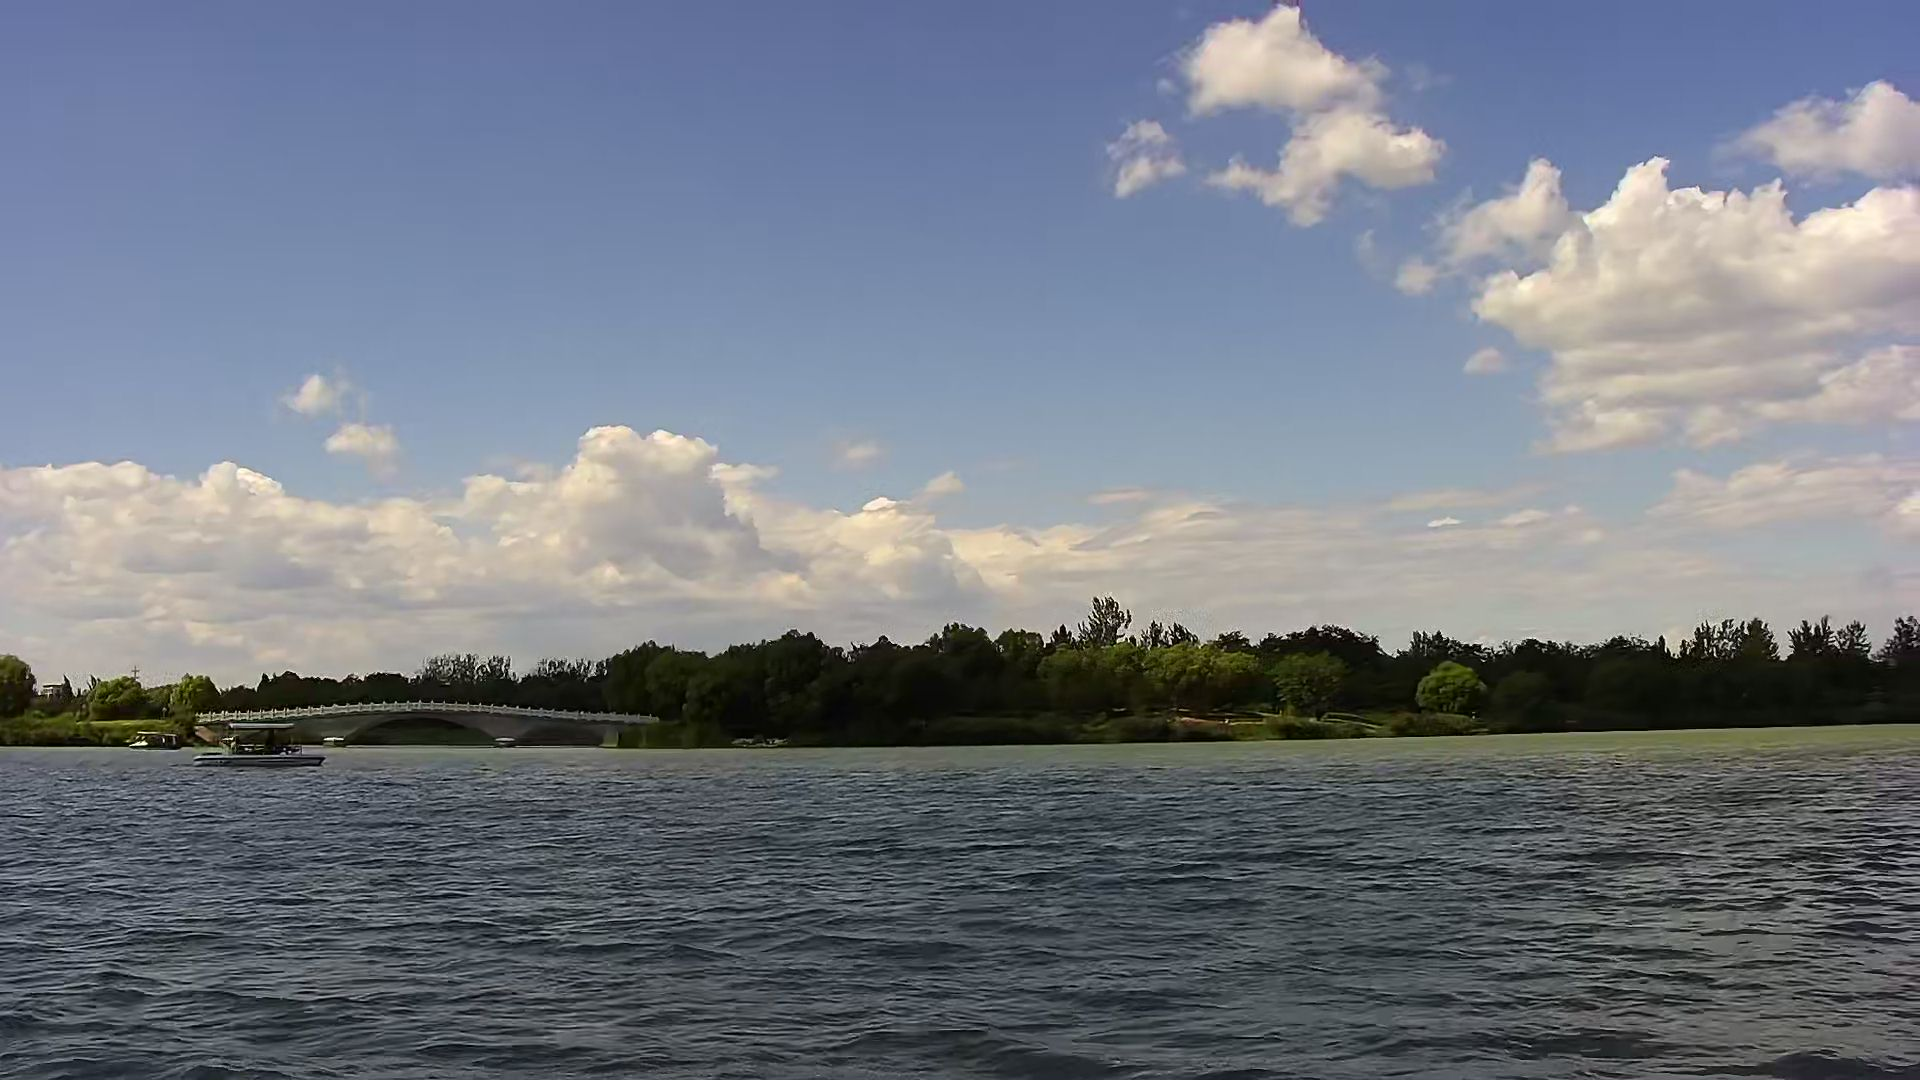boat: (190, 715, 326, 774)
bridge: (260, 702, 667, 754)
